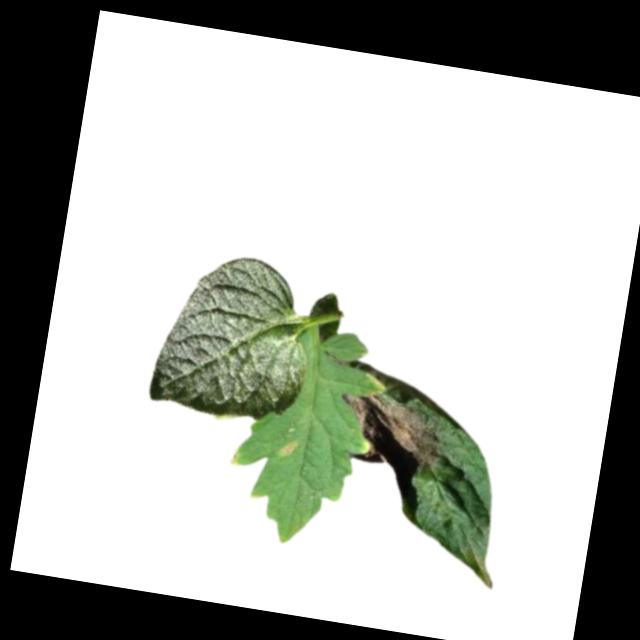Late_blight: (333, 390, 449, 474), (362, 373, 388, 395), (278, 439, 298, 458), (227, 448, 243, 468)
healthy: (146, 245, 321, 429)
